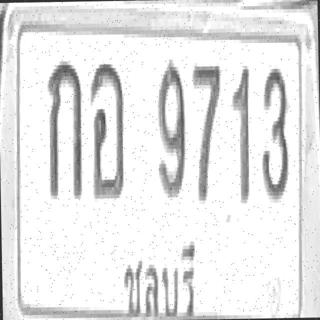A01: (46, 57, 83, 199)
A43: (89, 60, 125, 198)
N01: (230, 62, 252, 204)
N03: (260, 65, 289, 203)
N07: (191, 60, 222, 202)
N09: (156, 57, 187, 199)
P13: (118, 237, 202, 320)
